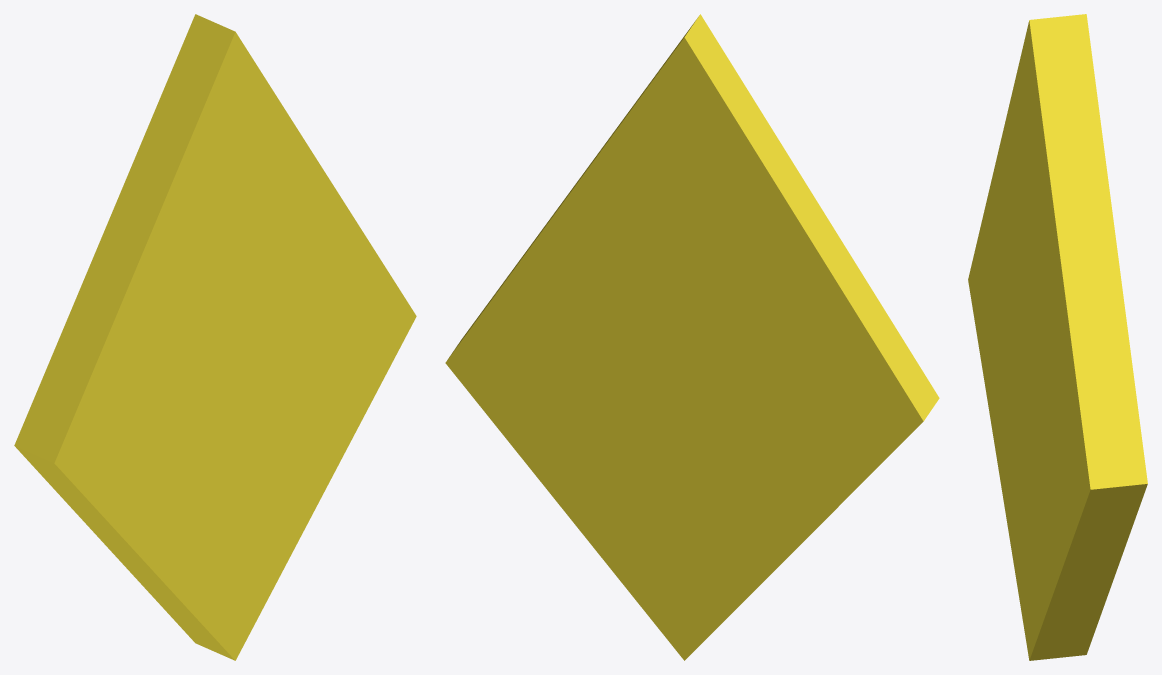
The model's file is FireParticle.fbx.
The picture shows the model from 3 angles, left to right: view 1: azimuth 30°, elevation 25°; view 2: azimuth 150°, elevation 25°; view 3: azimuth 270°, elevation 25°; orthographic projection. The views are drawn at different scales.
Visible parts, largest first — view 1: campfire_01_Plane.025; view 2: campfire_01_Plane.025; view 3: campfire_01_Plane.025.
Boxes of the visible parts, x1,y1,x2,y2 form: campfire_01_Plane.025: (14,14,416,660); campfire_01_Plane.025: (445,14,939,660); campfire_01_Plane.025: (968,14,1147,660).
Size of the model in its own units: 31.87 by 44.11 by 11.22.
